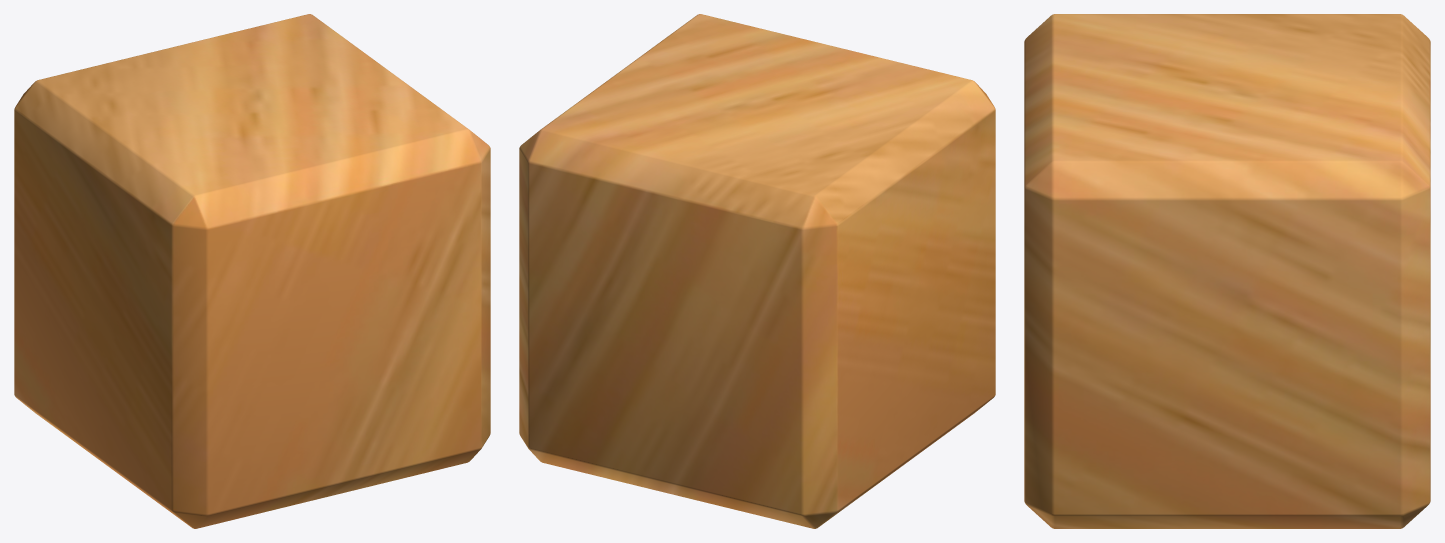
Rendered from block1.fbx.
3 views of the same model, side by side, from view 1: azimuth 30°, elevation 25°; view 2: azimuth 150°, elevation 25°; view 3: azimuth 270°, elevation 25° (orthographic). The views are drawn at different scales.
Visible parts, largest first — view 1: block1; view 2: block1; view 3: block1.
Part boxes in pixels (x1,y1,x2,y2): block1: (14,14,490,528); block1: (519,14,995,528); block1: (1024,14,1430,528).
Bounding box in the file's own units: 200 × 200 × 200.
